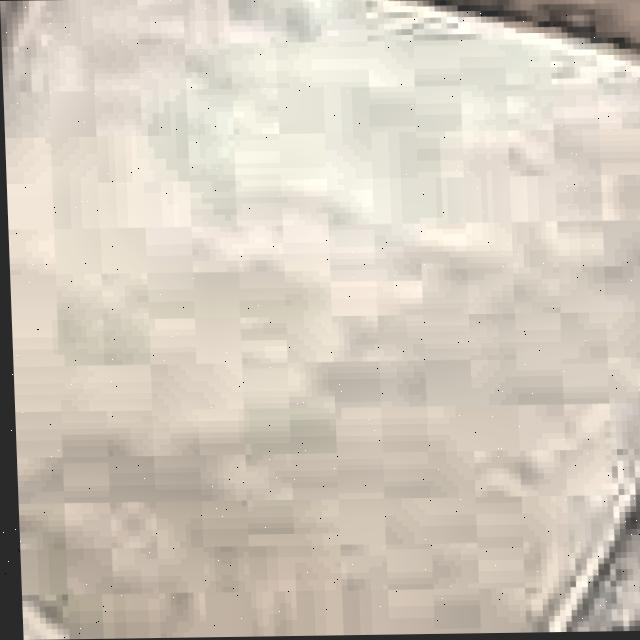paper: (2, 0, 640, 640)
